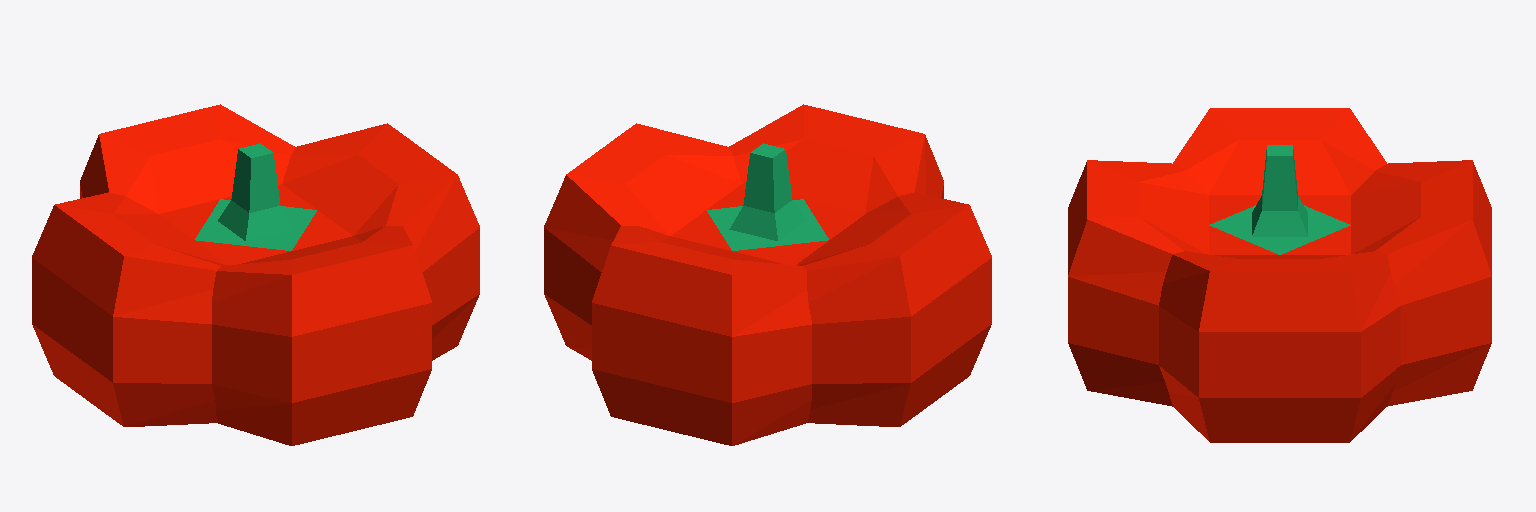
File: pumpkin.obj
3 views of the same model, side by side, from view 1: azimuth 30°, elevation 25°; view 2: azimuth 150°, elevation 25°; view 3: azimuth 270°, elevation 25° (orthographic).
Visible parts, largest first — view 1: pumpkin; view 2: pumpkin; view 3: pumpkin.
Boxes of the visible parts, <box> form: pumpkin: <box>32,104,479,445</box>; pumpkin: <box>544,104,991,445</box>; pumpkin: <box>1068,108,1491,442</box>.
Bounding box in the file's own units: 0.4189 × 0.2291 × 0.4189.